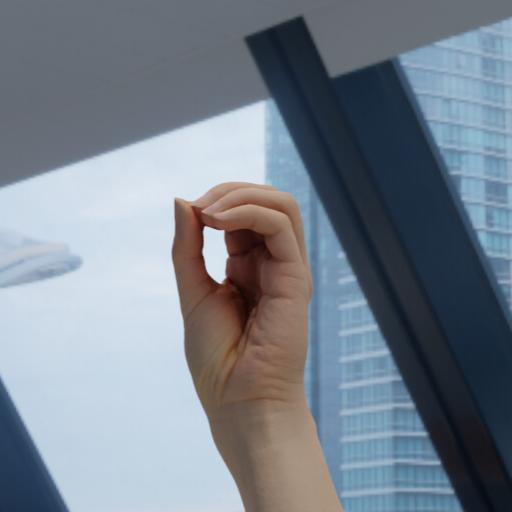Q: (133, 138, 369, 480)
